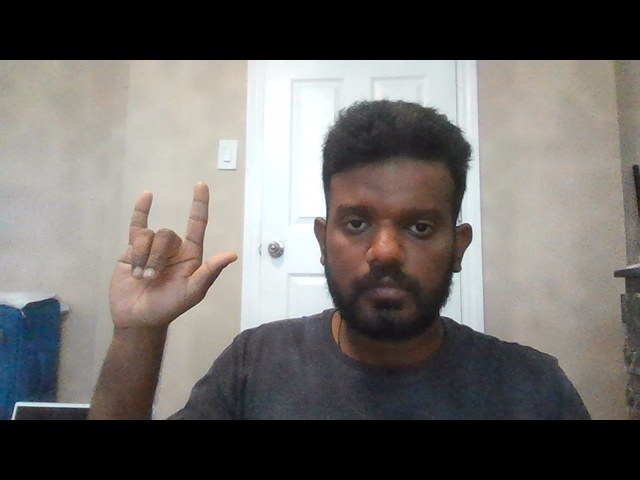iloveyou: (102, 178, 241, 338)
